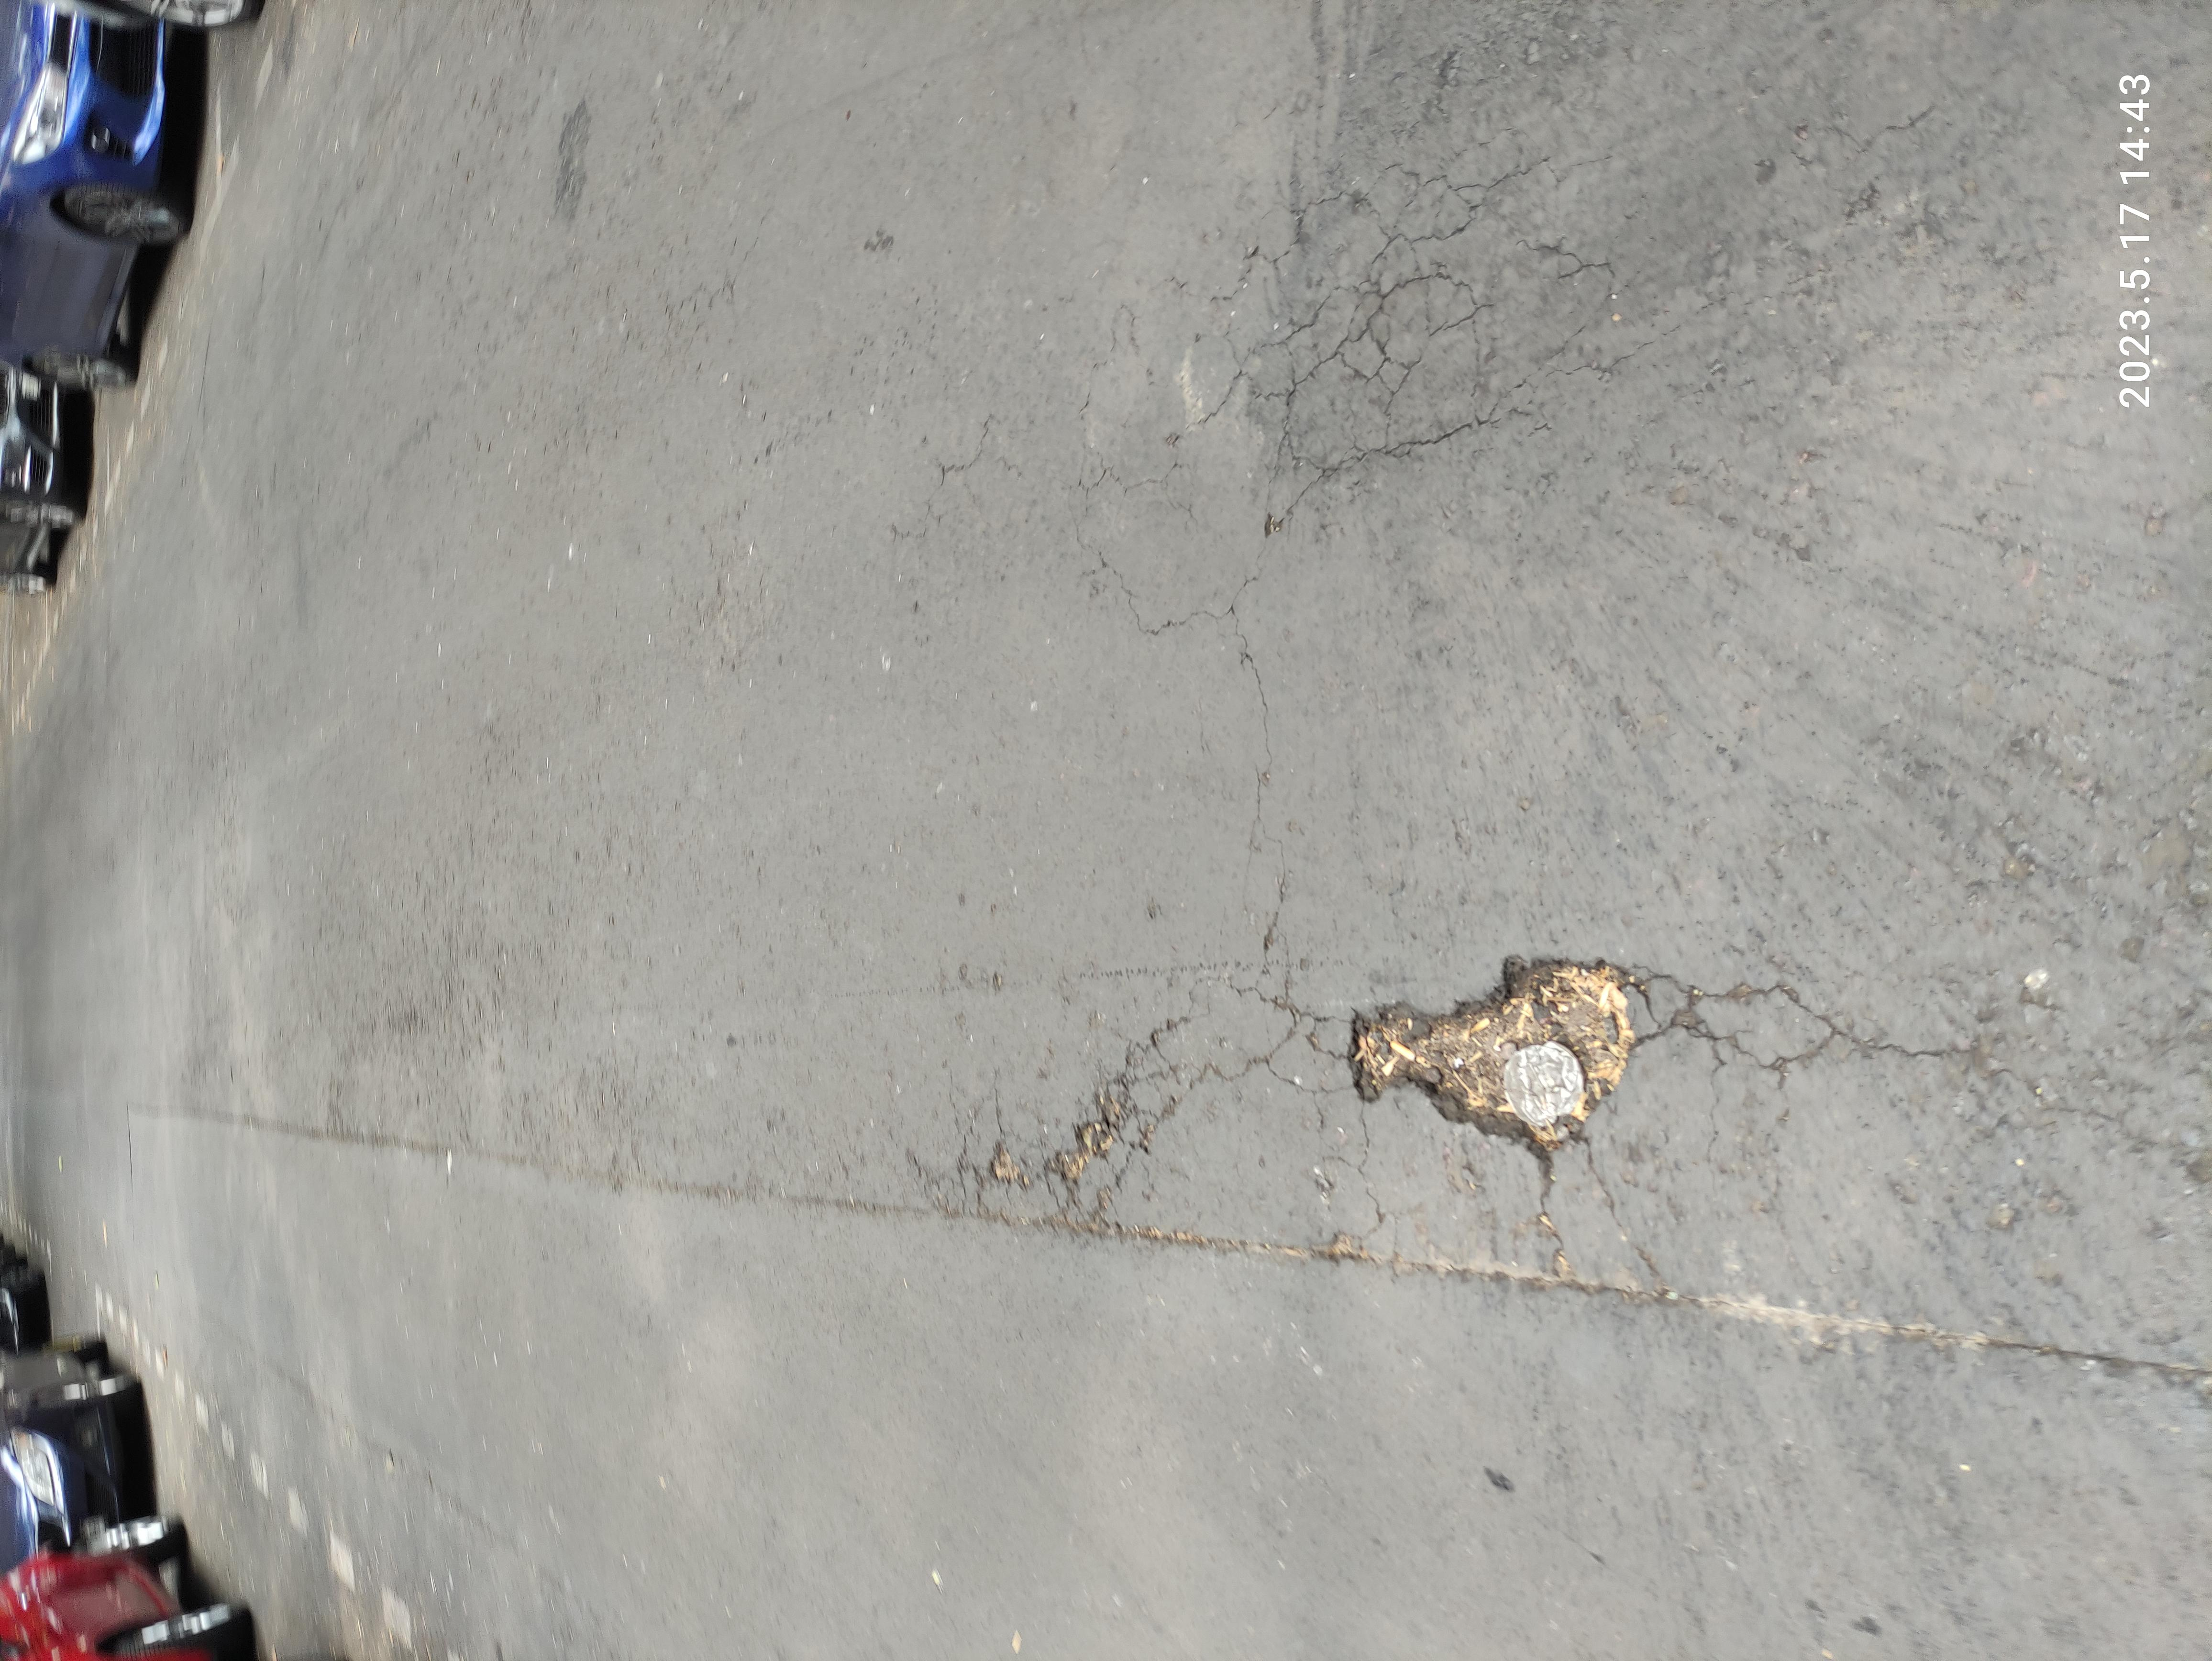alligator-crack: (1499, 888, 2146, 1200), (555, 677, 916, 928)
crack: (586, 113, 787, 654), (330, 1251, 527, 1651), (726, 1284, 933, 1521), (396, 988, 556, 1225)
pothole: (593, 995, 977, 1277), (1898, 405, 2092, 454)
